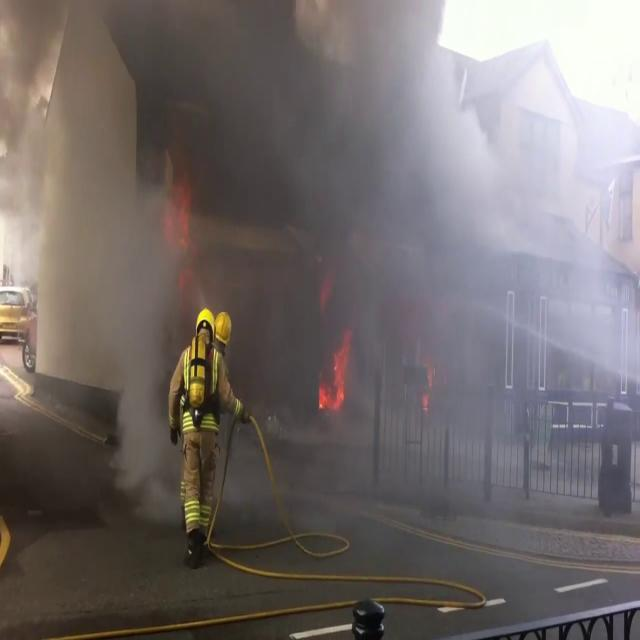Fire: (318, 322, 352, 414)
Smoke: (3, 0, 639, 421)
